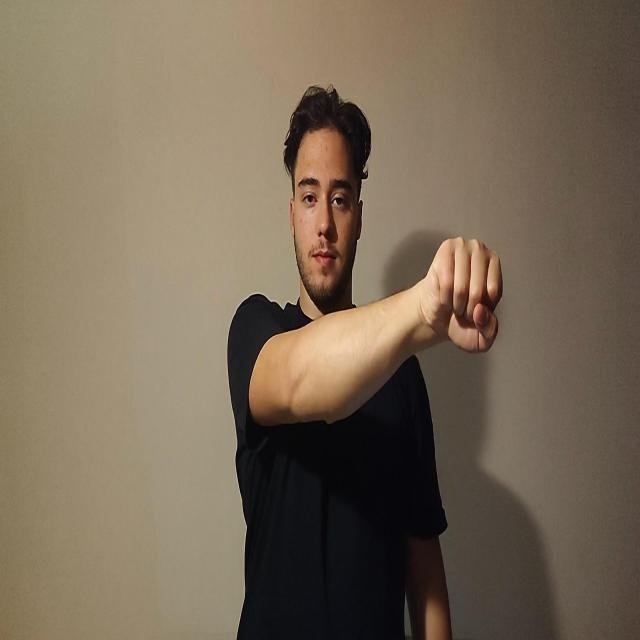yes: (419, 234, 503, 354)
